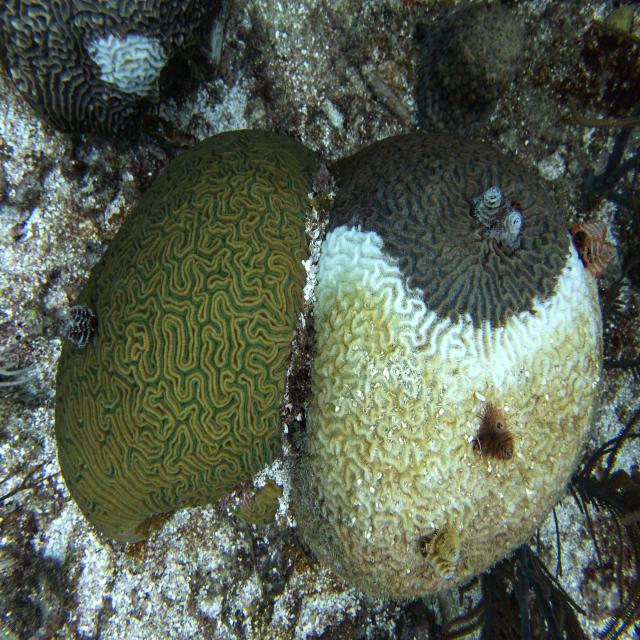Coral: (290, 130, 603, 606), (55, 128, 316, 545), (0, 0, 222, 139), (418, 0, 526, 136)
